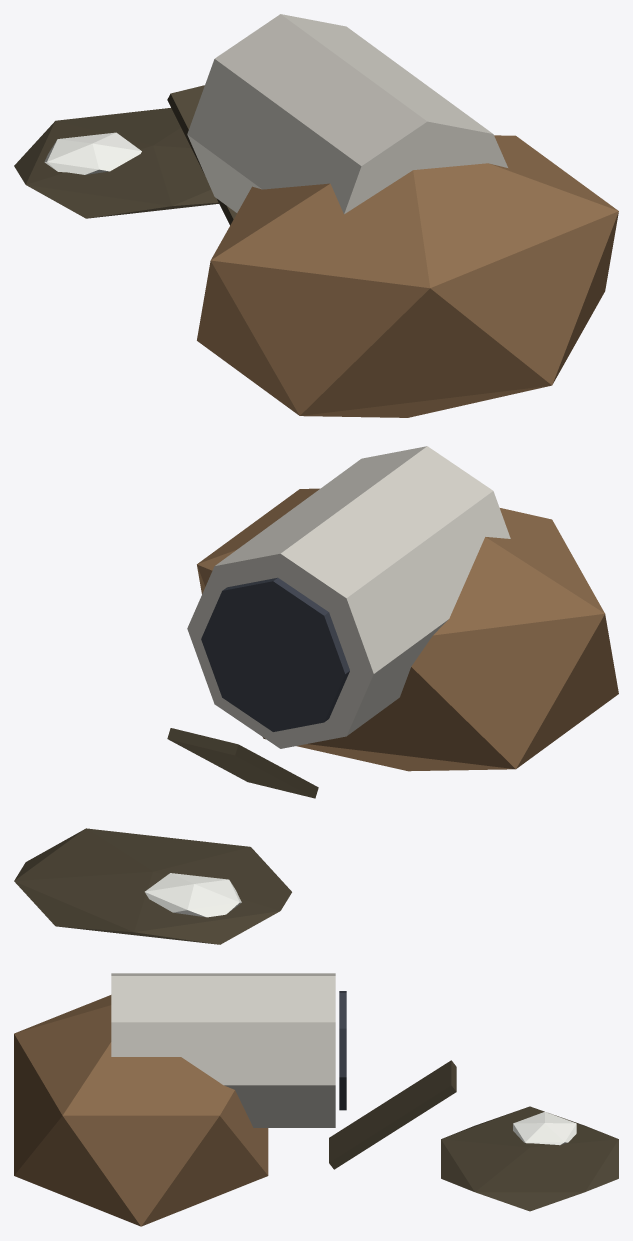
Rendered from manilha_esgoto.glb.
3 views of the same model, one above another, from view 1: azimuth 30°, elevation 25°; view 2: azimuth 150°, elevation 25°; view 3: azimuth 270°, elevation 25° (orthographic). The views are drawn at different scales.
Parts seen in each view (by area): view 1: corpo; view 2: corpo; view 3: corpo.
Boxes of the visible parts, <box> form: corpo: <box>14,14,618,417</box>; corpo: <box>14,446,618,944</box>; corpo: <box>14,973,618,1226</box>.
Size of the model in its own units: 0.4651 by 0.35 by 0.8092.
